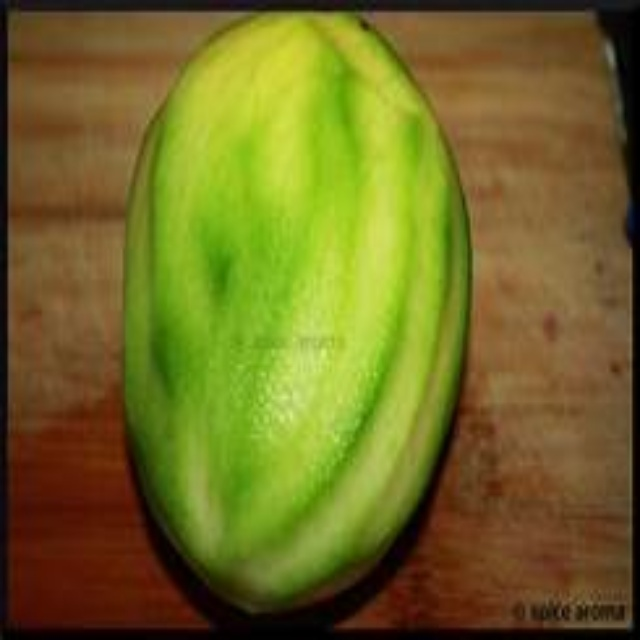mango: (122, 12, 470, 620)
